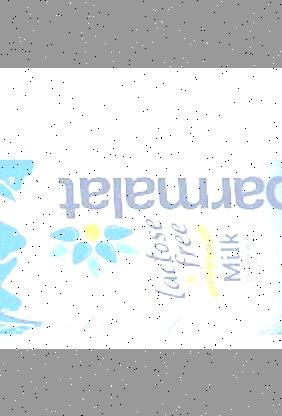Others: (0, 149, 282, 340)
